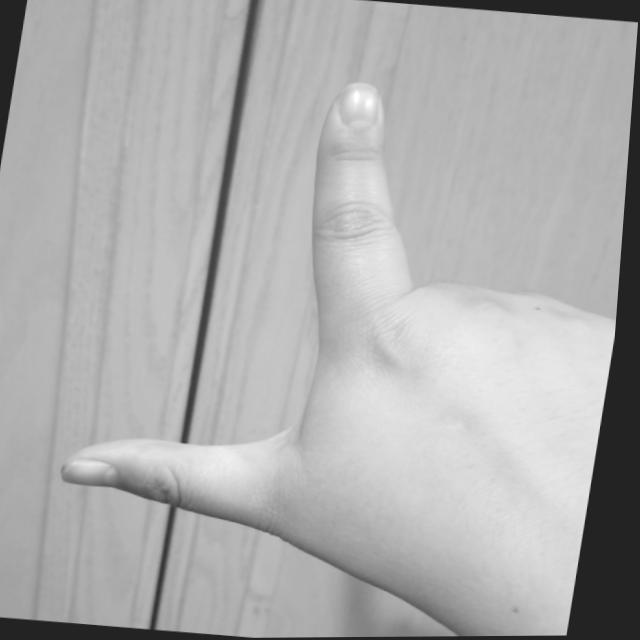L: (28, 47, 636, 639)
